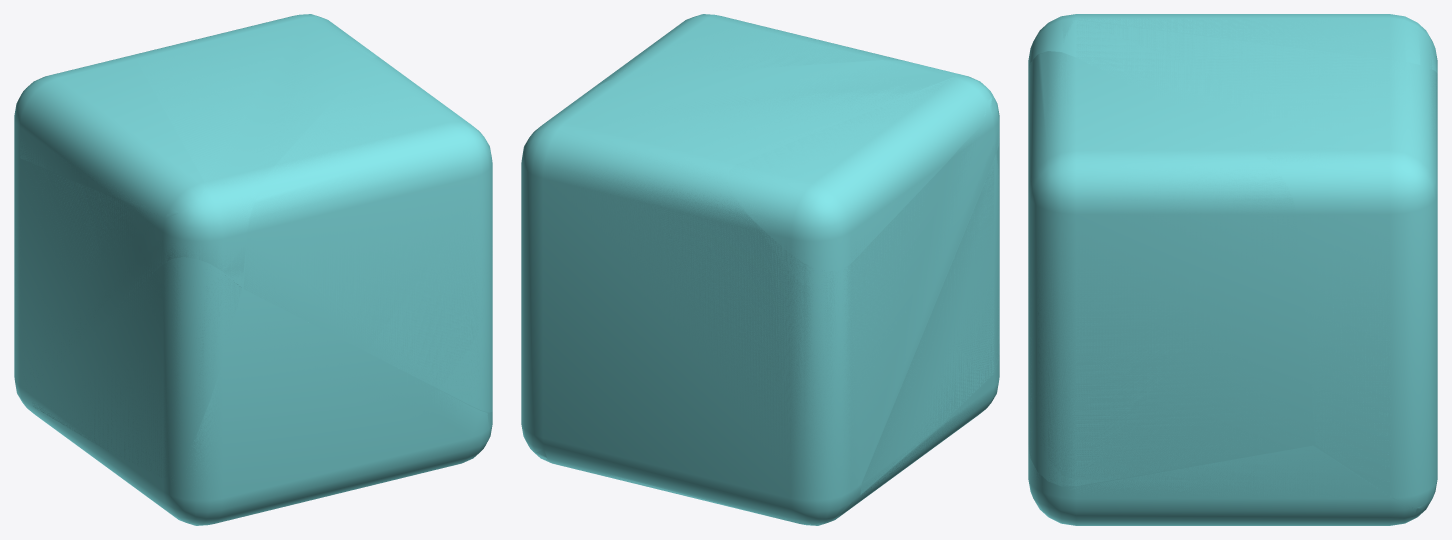
The model's file is rounded-cube-big.fbx.
3 renders of one model, left to right at view 1: azimuth 30°, elevation 25°; view 2: azimuth 150°, elevation 25°; view 3: azimuth 270°, elevation 25°, orthographic. The views are drawn at different scales.
Parts seen in each view (by area): view 1: Cube, Cube_cell.004, Cube_cell, Cube_cell.001, Cube_cell.002, Cube_cell.003; view 2: Cube, Cube_cell, Cube_cell.002, Cube_cell.003, Cube_cell.004, Cube_cell.001; view 3: Cube, Cube_cell.004, Cube_cell, Cube_cell.001, Cube_cell.003.
Part boxes in pixels (x1,y1,x2,y2): Cube: (14,14,492,525); Cube_cell.004: (243,57,492,412); Cube_cell: (14,14,378,403); Cube_cell.001: (142,318,492,525); Cube_cell.002: (32,259,241,477); Cube_cell.003: (19,56,203,213); Cube: (521,14,999,525); Cube_cell: (525,60,999,524); Cube_cell.002: (860,138,999,494); Cube_cell.003: (729,77,991,260); Cube_cell.004: (599,14,912,84); Cube_cell.001: (525,385,993,525); Cube: (1028,14,1437,525); Cube_cell.004: (1028,51,1310,486); Cube_cell: (1028,18,1437,508); Cube_cell.001: (1028,445,1422,525); Cube_cell.003: (1057,14,1437,73).
Size of the model in its own units: 100 by 100 by 100.
